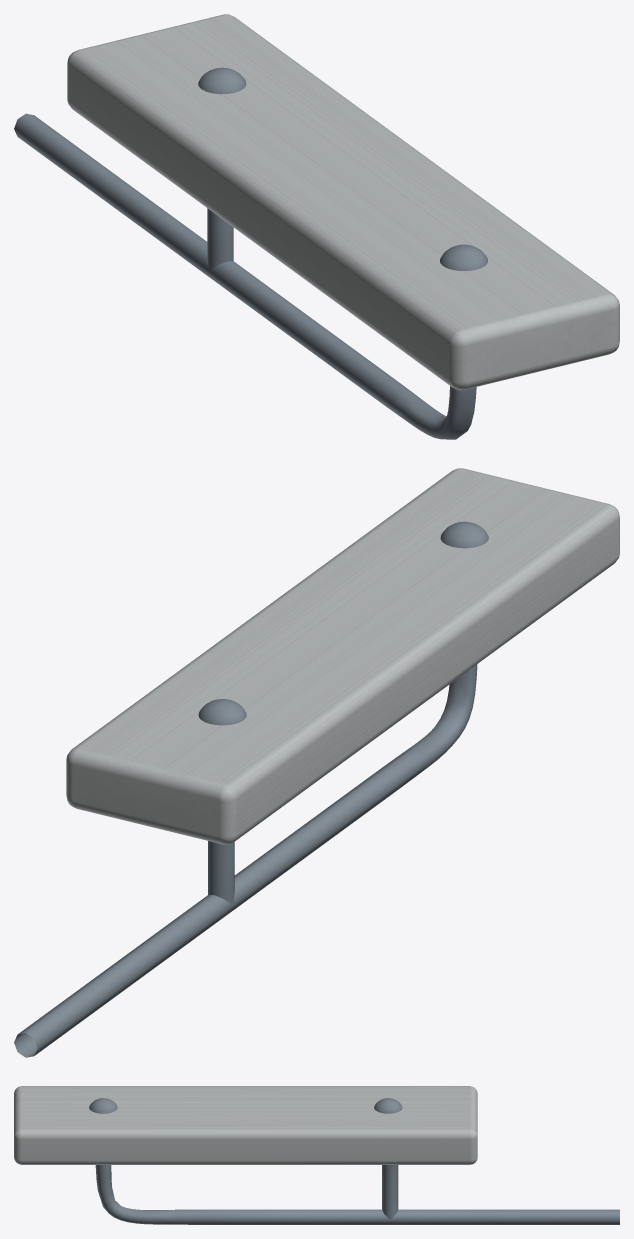
Rendered from tekkin03.fbx.
The picture shows the model from 3 angles, top to bottom: view 1: azimuth 30°, elevation 25°; view 2: azimuth 150°, elevation 25°; view 3: azimuth 270°, elevation 25°; orthographic projection. The views are drawn at different scales.
Visible parts, largest first — view 1: polySurface1, pTorus3; view 2: polySurface1, pTorus3; view 3: polySurface1, pTorus3.
Part boxes in pixels (<box>): polySurface1: <box>67,14,619,390</box>; pTorus3: <box>14,67,487,439</box>; polySurface1: <box>66,468,619,844</box>; pTorus3: <box>14,521,488,1057</box>; polySurface1: <box>14,1086,477,1164</box>; pTorus3: <box>89,1098,619,1224</box>.
Size of the model in its own units: 1003 by 1199 by 5279.
2 materials, 2 textured.
